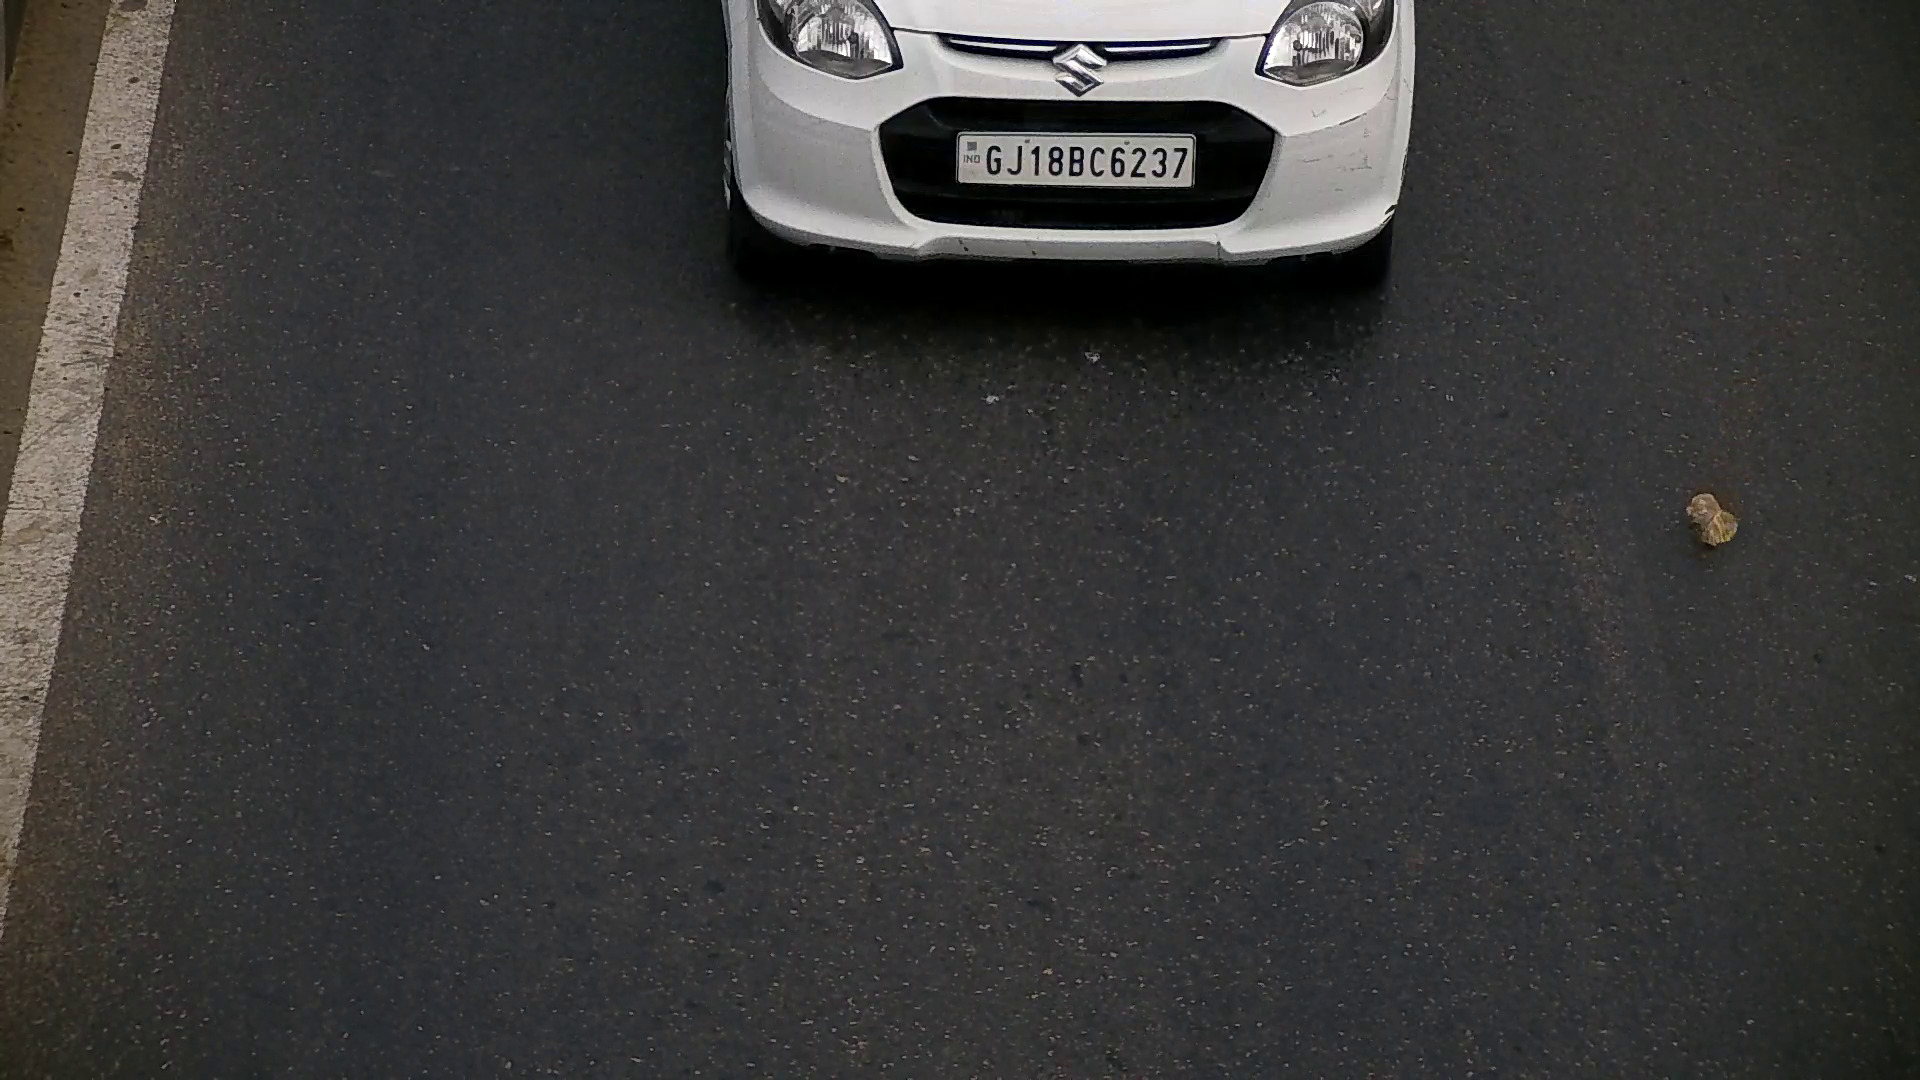numberplate: (954, 134, 1203, 188)
